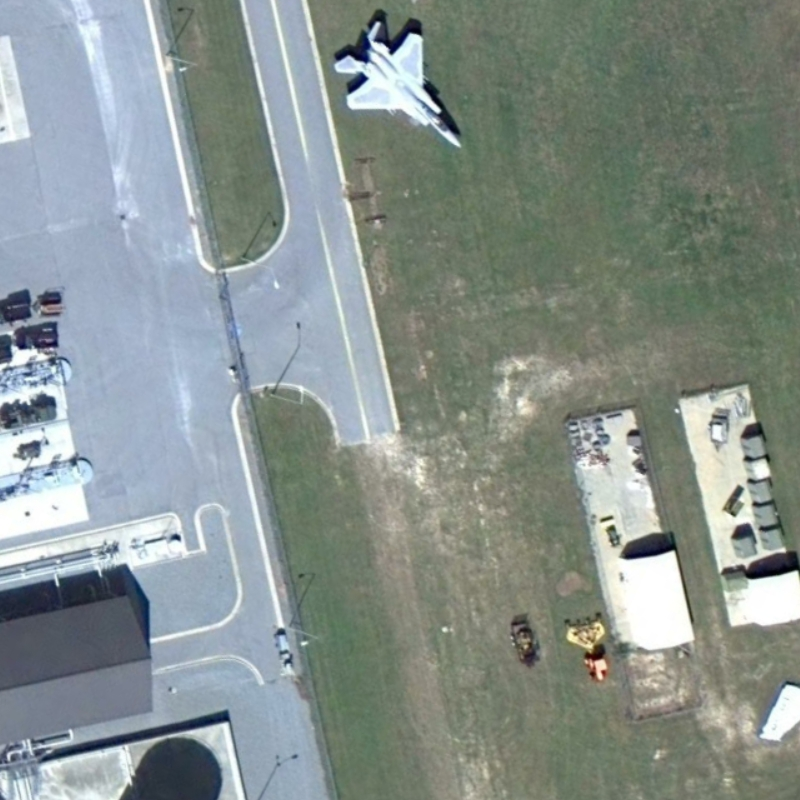A13: (321, 14, 473, 155)
